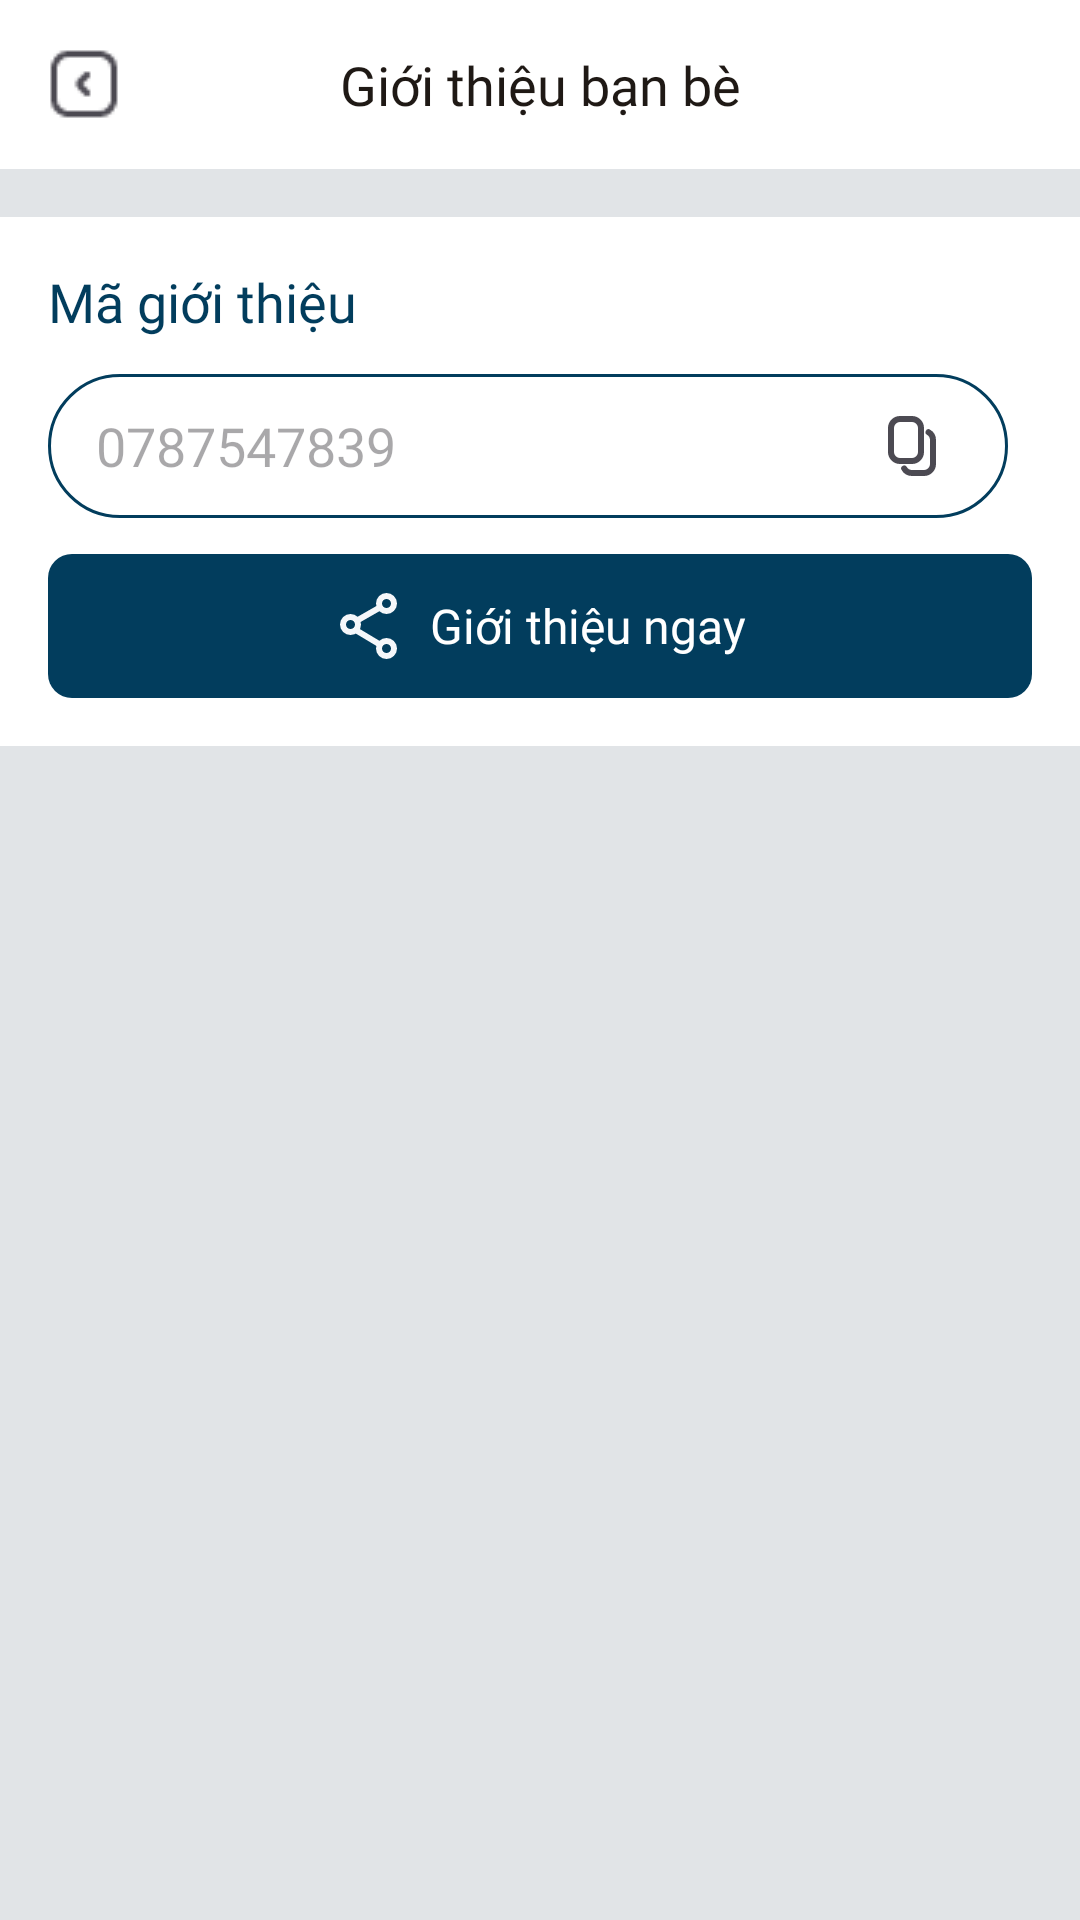

Named icons in this screenshot (1080w x 1920h) and their centers, [x,y]:
share: [368,626]
square arrow left: [84,84]
